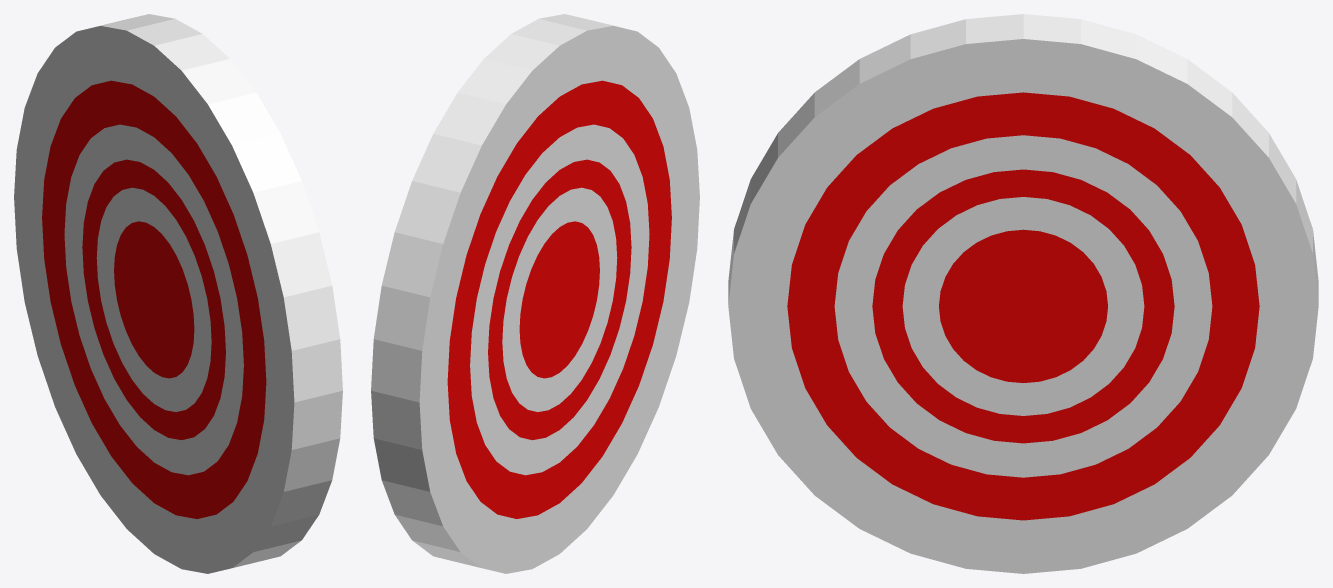
File: target.fbx
The picture shows the model from 3 angles, left to right: view 1: azimuth 30°, elevation 25°; view 2: azimuth 150°, elevation 25°; view 3: azimuth 270°, elevation 25°; orthographic projection. The views are drawn at different scales.
Parts seen in each view (by area): view 1: Cylinder; view 2: Cylinder; view 3: Cylinder.
Part boxes in pixels (x1,y1,x2,y2): Cylinder: (14, 14, 342, 573); Cylinder: (371, 14, 699, 573); Cylinder: (728, 14, 1318, 573).
Size of the model in its own units: 20 by 200 by 200.
